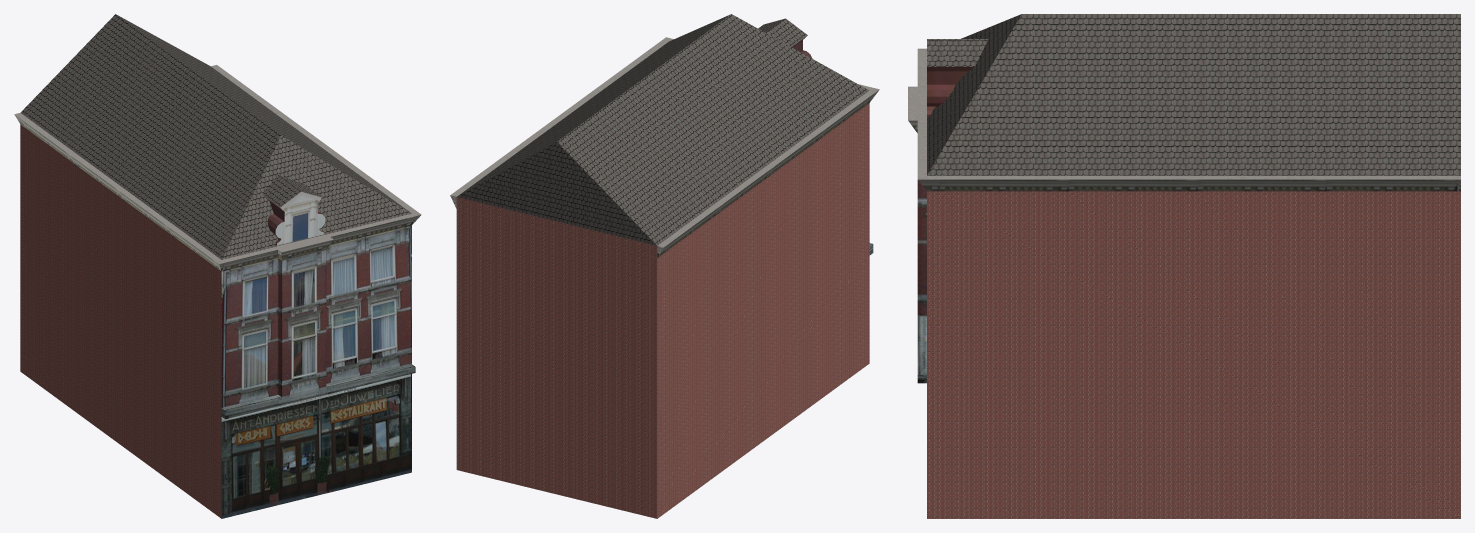
Rendered from eu_red_shop.glb.
3 views of the same model, side by side, from view 1: azimuth 30°, elevation 25°; view 2: azimuth 150°, elevation 25°; view 3: azimuth 270°, elevation 25° (orthographic). The views are drawn at different scales.
Parts seen in each view (by area): view 1: eu_08; view 2: eu_08; view 3: eu_08.
Boxes of the visible parts, bbox=[...] form: eu_08: bbox=[14, 14, 421, 518]; eu_08: bbox=[450, 14, 879, 518]; eu_08: bbox=[908, 14, 1460, 518].
Size of the model in its own units: 8.94 by 14.09 by 15.92.
Materials: 7 (6 with a texture image).
